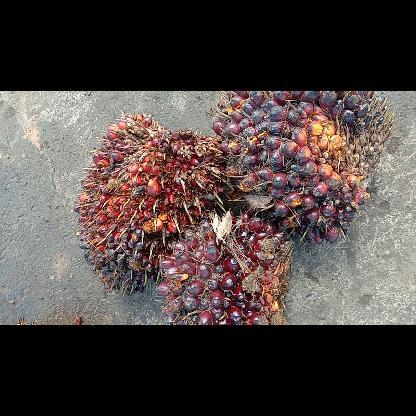Kurang masak: (210, 90, 392, 244), (155, 212, 291, 324)
TBS masak: (74, 112, 223, 294)
